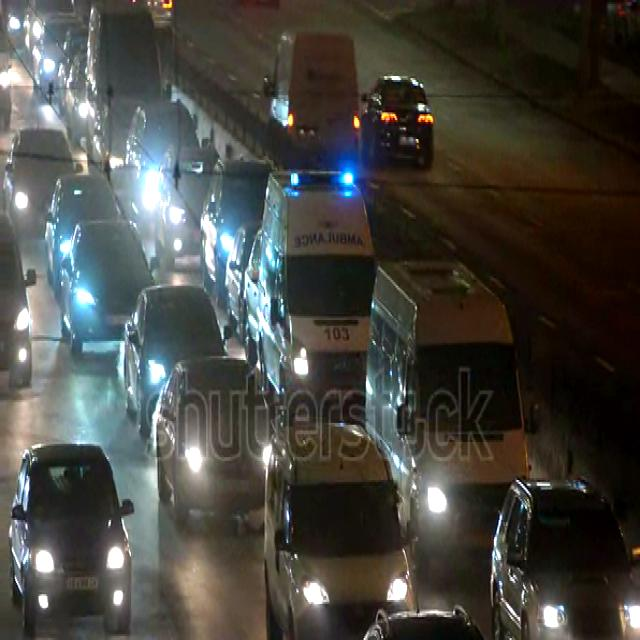ambulance: (258, 166, 386, 438)
